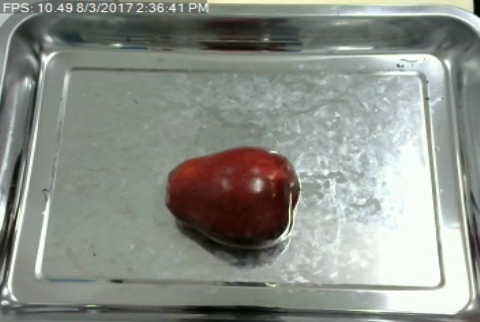Apple: (161, 145, 302, 247)
